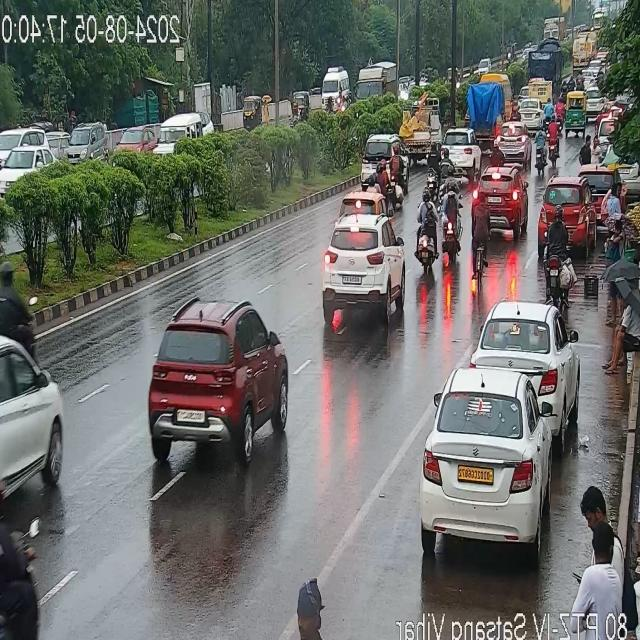2-wheelers: (0, 460, 42, 640), (412, 160, 460, 274), (540, 204, 573, 280), (419, 151, 453, 205), (529, 41, 561, 88), (368, 154, 400, 200), (588, 92, 628, 124), (534, 128, 554, 172), (543, 121, 559, 157), (534, 127, 546, 169)
auto: (566, 90, 586, 134)
bus: (501, 71, 515, 120)
car: (133, 298, 291, 459), (415, 370, 553, 550), (0, 328, 67, 546), (477, 300, 575, 414), (312, 216, 404, 324), (472, 171, 520, 245), (548, 177, 598, 246), (156, 110, 202, 152), (439, 129, 482, 173), (0, 146, 42, 191), (580, 162, 604, 234), (66, 126, 104, 166), (0, 124, 44, 158), (496, 122, 529, 164), (364, 135, 407, 161), (120, 124, 153, 152), (516, 96, 542, 130)
pedestrian: (574, 518, 626, 614), (603, 286, 640, 380), (293, 570, 335, 640), (604, 220, 626, 332), (632, 426, 640, 640), (574, 480, 609, 524), (606, 182, 620, 226), (583, 136, 593, 164), (590, 132, 600, 156)
truck: (398, 103, 442, 159), (466, 80, 502, 146), (356, 63, 396, 105), (543, 16, 564, 38)
